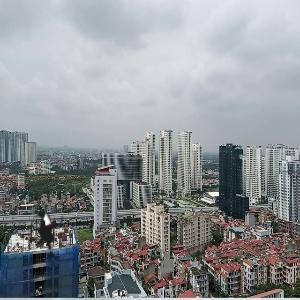drone: (13, 196, 94, 277)
